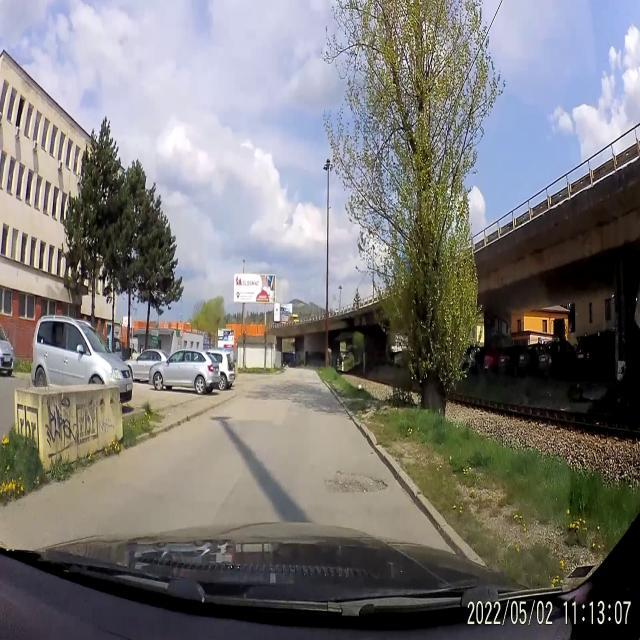Pothole: (323, 460, 392, 502)
